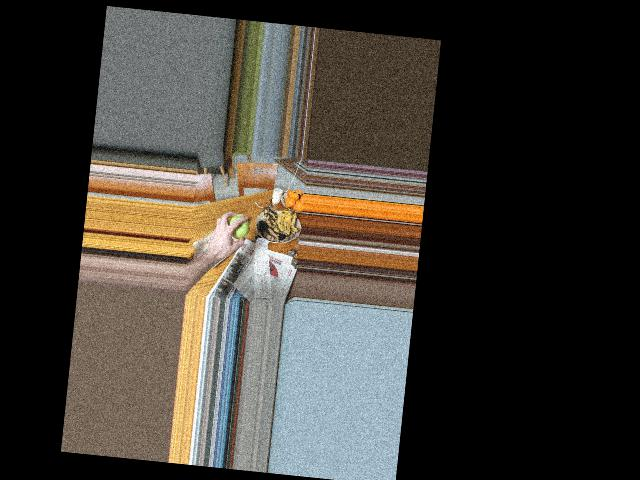apple: (226, 213, 250, 240)
